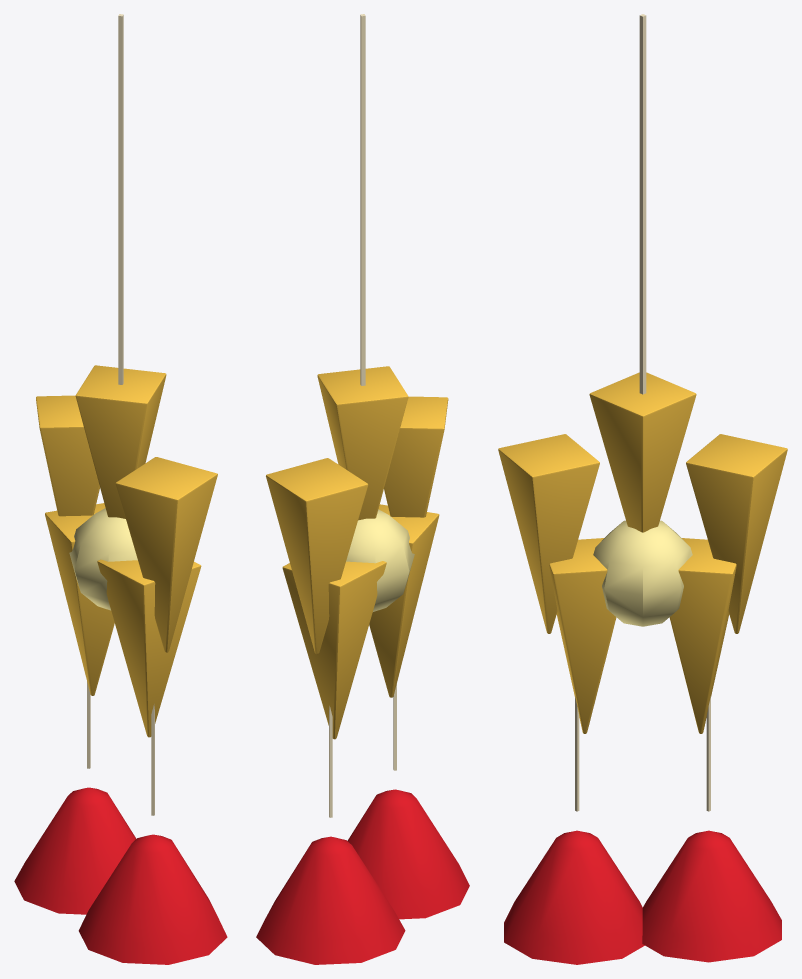
The model's file is HangNewYear.fbx.
3 renders of one model, left to right at view 1: azimuth 30°, elevation 25°; view 2: azimuth 150°, elevation 25°; view 3: azimuth 270°, elevation 25°, orthographic. The views are drawn at different scales.
Parts seen in each view (by area): view 1: HangNewYear; view 2: HangNewYear; view 3: HangNewYear.
Part boxes in pixels (box(x1,y1,x2,y2)): HangNewYear: box(14, 14, 227, 964); HangNewYear: box(256, 14, 469, 964); HangNewYear: box(498, 14, 787, 964).
Bounding box in the file's own units: 140 × 922 × 264.
